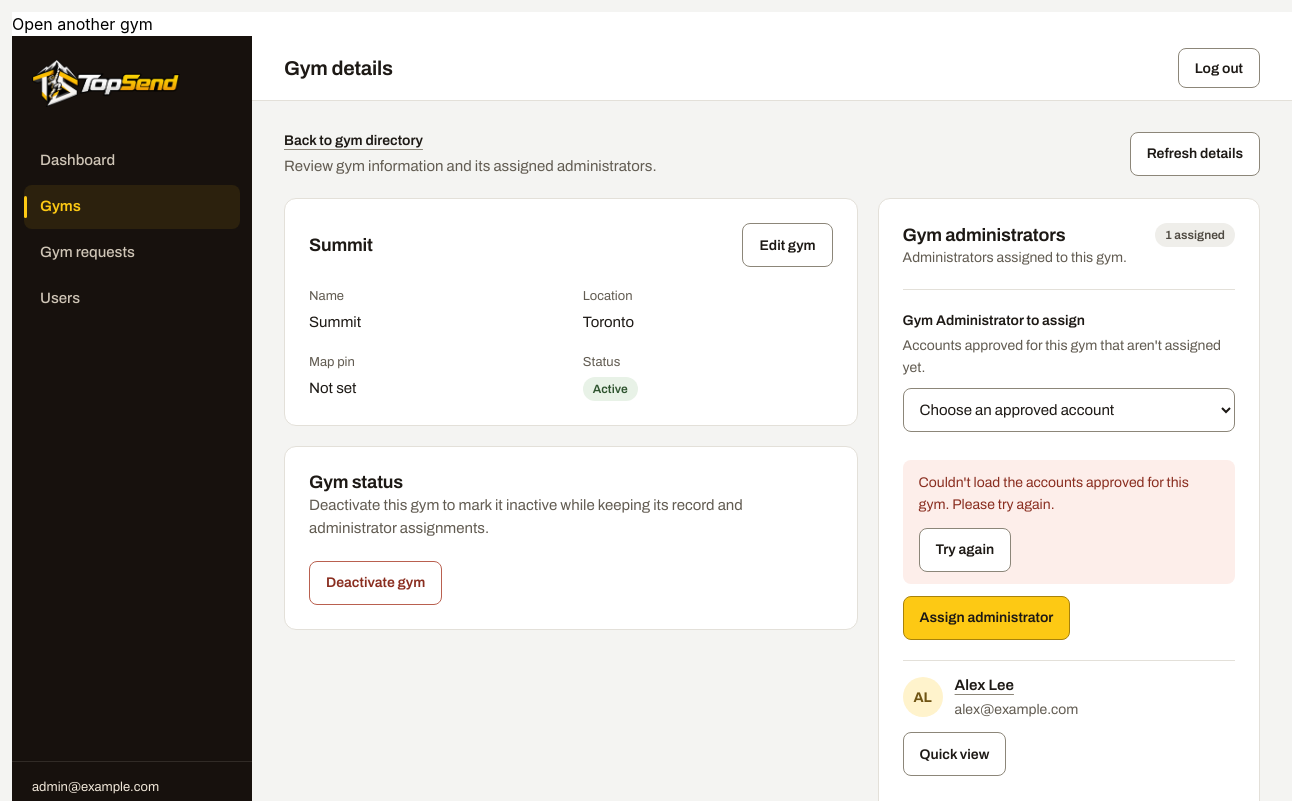
US-006 #36/#37, FR-003, AC-006 › explains a failed list of approved accounts and loads it again on request
expect the message shows "Couldn't load the accounts approved for this gym": met, box 919,475 -> 1189,512
Click the button "Try again". click: (965, 550)
box: 919,528 -> 1011,572
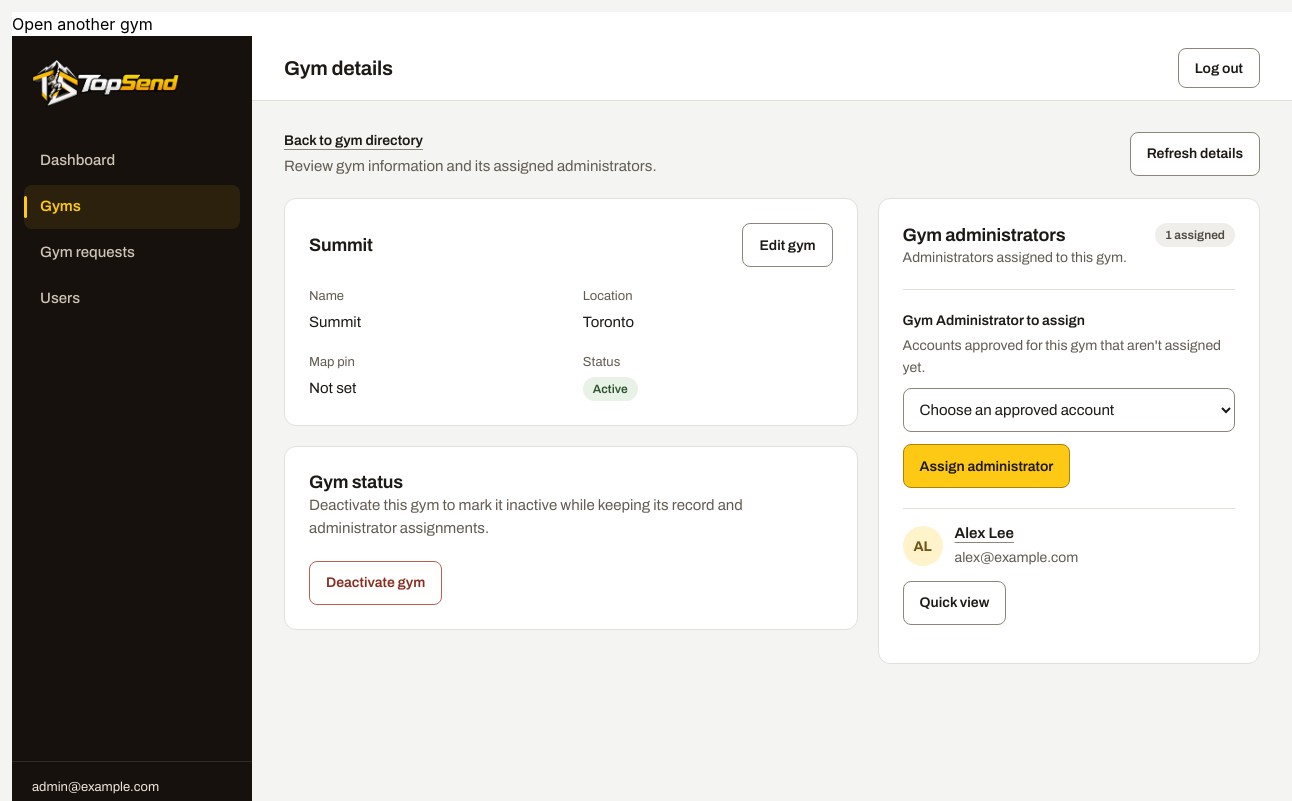
expect the message "Couldn't load the accounts approved for this gym. Please try again. Try again" is gone: met
